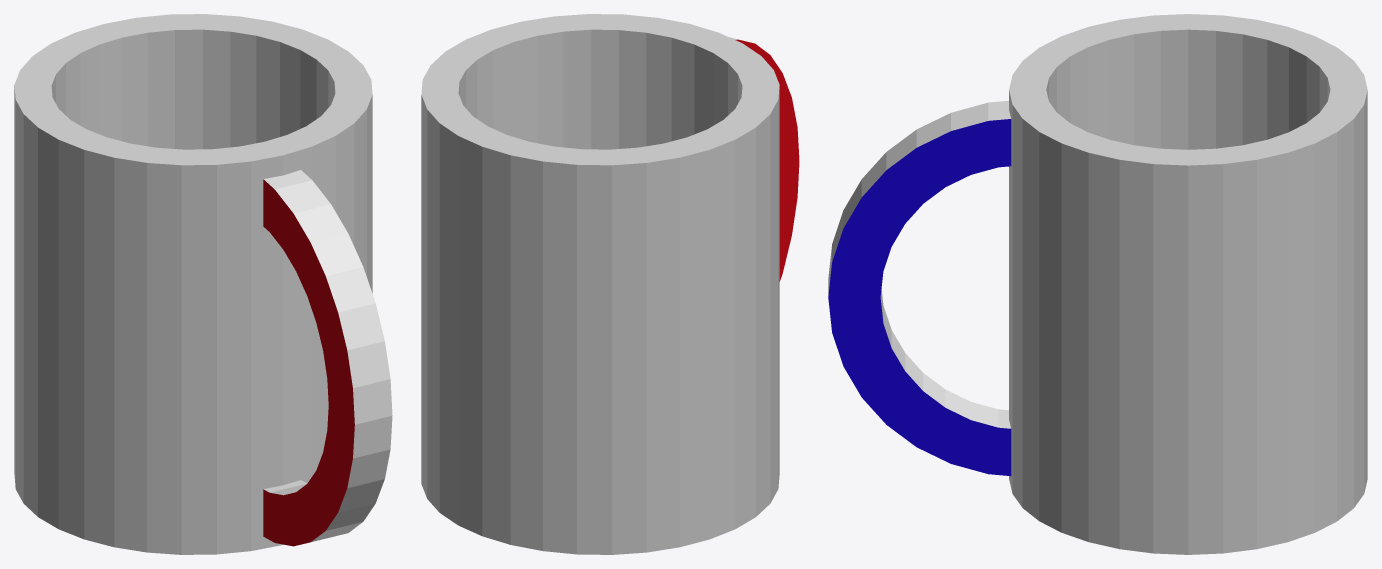
3 views of the same model, side by side, from view 1: azimuth 30°, elevation 25°; view 2: azimuth 150°, elevation 25°; view 3: azimuth 270°, elevation 25° (orthographic).
Visible parts, largest first — view 1: Cylinder, Cylinder.002; view 2: Cylinder, Cylinder.002; view 3: Cylinder, Cylinder.002.
Part boxes in pixels (left/top/right/bottom): Cylinder: left=14, top=14, right=372, bottom=554; Cylinder.002: left=263, top=170, right=392, bottom=546; Cylinder: left=421, top=14, right=779, bottom=554; Cylinder.002: left=730, top=37, right=799, bottom=281; Cylinder: left=1009, top=14, right=1367, bottom=554; Cylinder.002: left=828, top=100, right=1011, bottom=476.
Bounding box in the file's own units: 0.1043 × 0.1249 × 0.1568.
